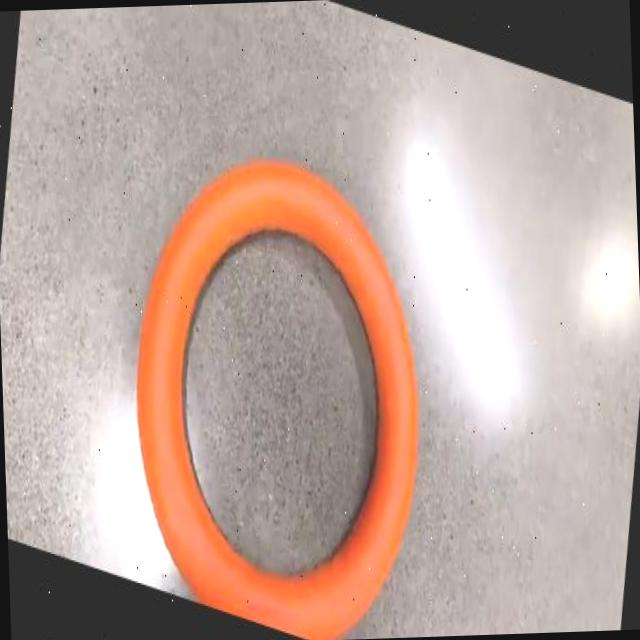note: (136, 160, 418, 640)
